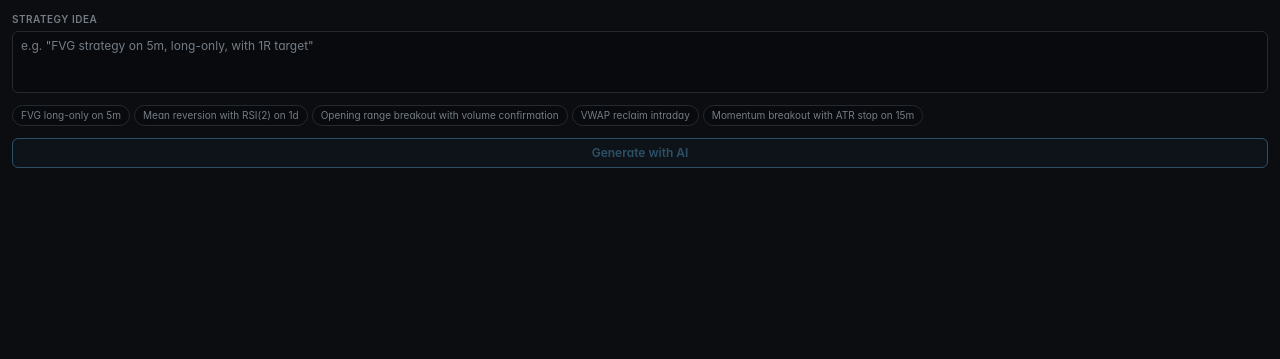
Test case: <AIPromptTab /> › renders success card with strategy name and apply button after successful generation
In the text box named "strategy idea prompt": (640, 62) [12,31,1268,93], type "FVG strategy on 5m long-only"
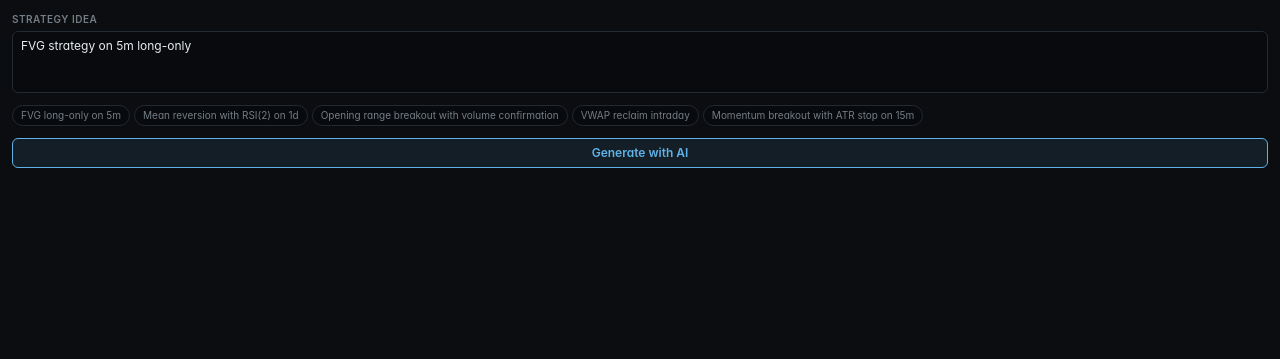
Click the button with test id "ai-generate-btn": (640, 153) [12,138,1268,168]
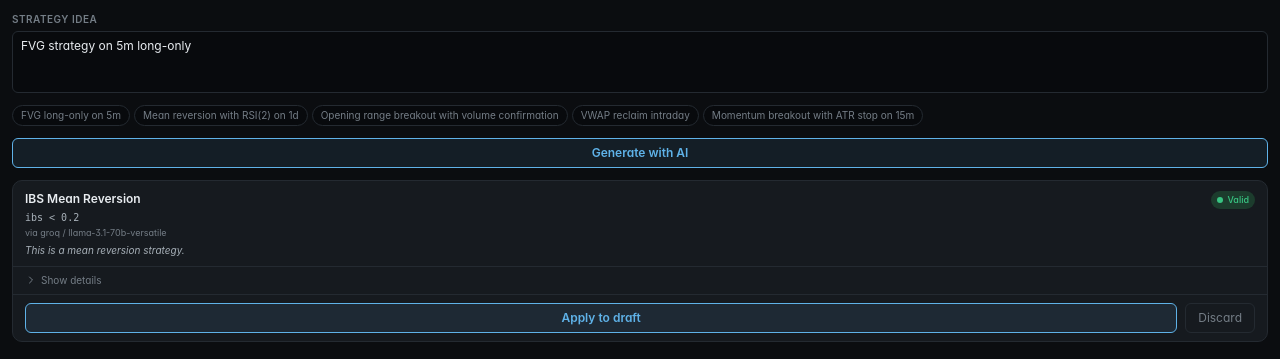
Check: the element with test id "ai-result-card" is shown, box [12,180,1268,342]
Check: the text "IBS Mean Reversion" is shown, box [25,191,141,206]
Check: the button with test id "ai-apply-btn" is shown, box [25,302,1177,332]
